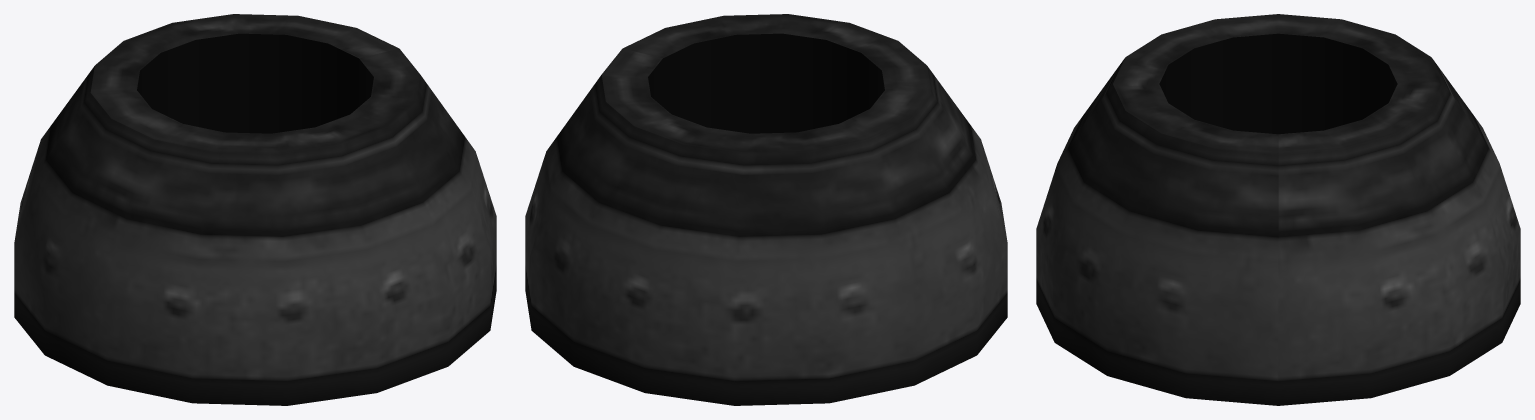
File: flamethrower.glb
The picture shows the model from 3 angles, left to right: view 1: azimuth 30°, elevation 25°; view 2: azimuth 150°, elevation 25°; view 3: azimuth 270°, elevation 25°; orthographic projection.
Parts seen in each view (by area): view 1: flamethrower; view 2: flamethrower; view 3: flamethrower.
Part boxes in pixels (left/top/right/bottom): flamethrower: left=14, top=14, right=496, bottom=405; flamethrower: left=525, top=14, right=1007, bottom=405; flamethrower: left=1036, top=14, right=1520, bottom=405.
Size of the model in its own units: 0.4 by 0.2 by 0.4.
Materials: 1 (1 with a texture image).
